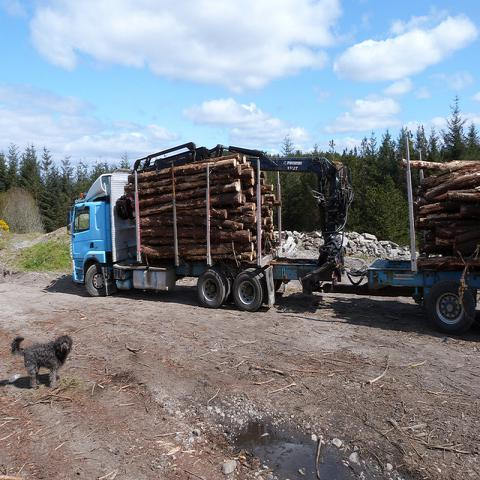truck: (71, 141, 479, 321)
